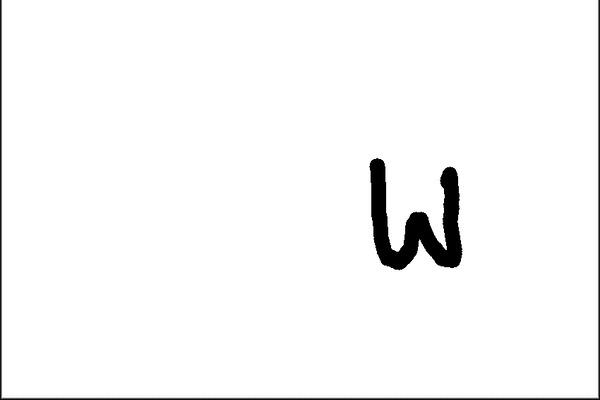w: (347, 146, 491, 288)
